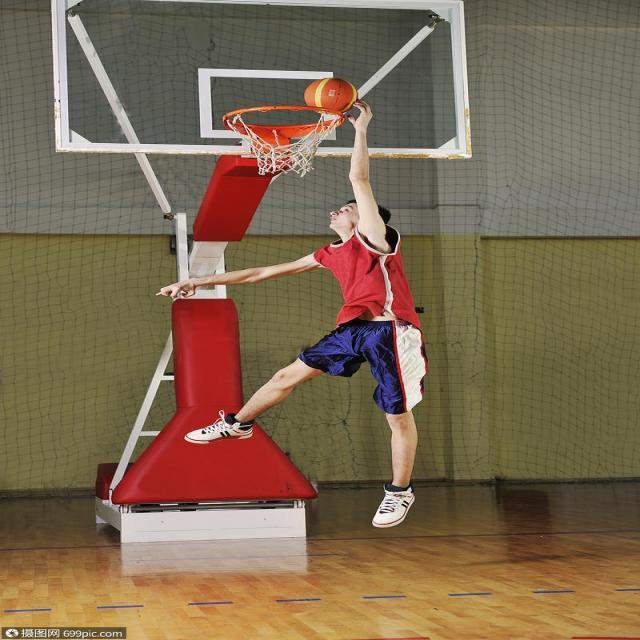rim: (303, 76, 357, 115)
